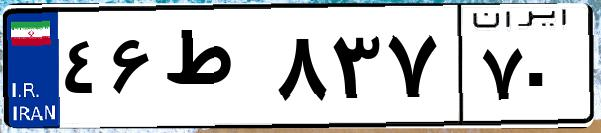0: (525, 38, 570, 115)
3: (330, 28, 385, 110)
4: (57, 26, 110, 100)
6: (110, 28, 158, 98)
7: (385, 28, 445, 110), (475, 38, 525, 113)
8: (270, 28, 330, 110)
ط: (158, 20, 270, 120)
